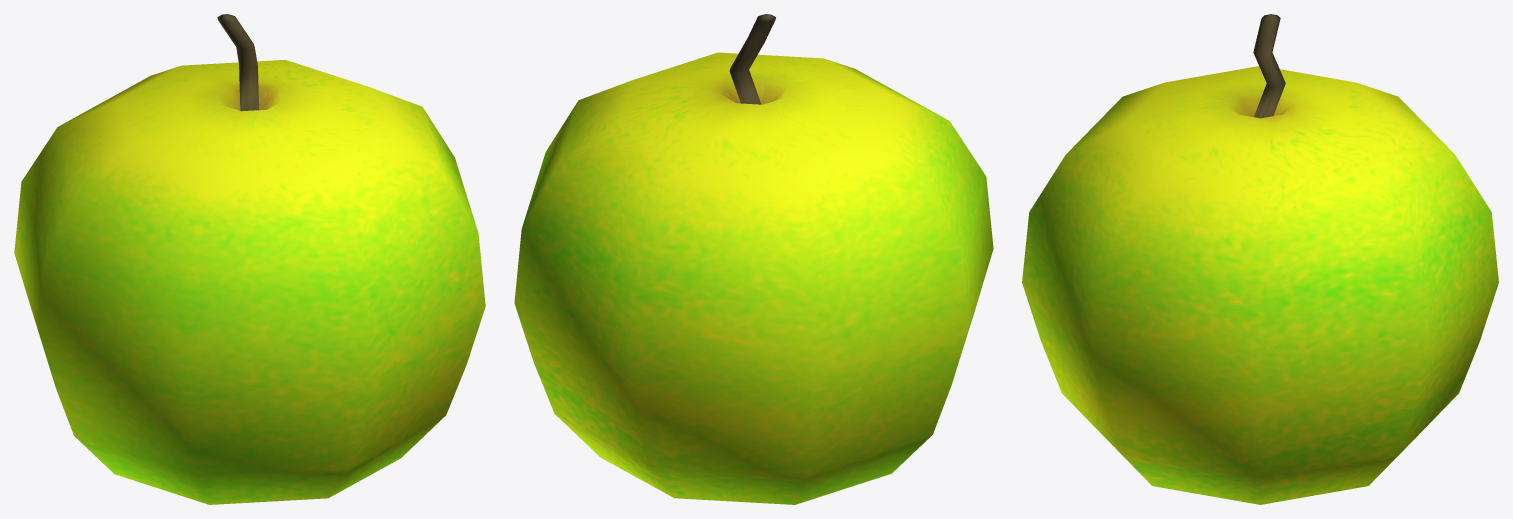
The model's file is Green Apple.fbx.
3 renders of one model, left to right at view 1: azimuth 30°, elevation 25°; view 2: azimuth 150°, elevation 25°; view 3: azimuth 270°, elevation 25°, orthographic. The views are drawn at different scales.
Parts seen in each view (by area): view 1: pSphere1; view 2: pSphere1; view 3: pSphere1.
Part boxes in pixels (<box>): pSphere1: <box>14,14,485,504</box>; pSphere1: <box>514,14,993,504</box>; pSphere1: <box>1022,14,1498,504</box>.
Size of the model in its own units: 8.84 by 8.98 by 8.84.
1 material, 1 textured.
